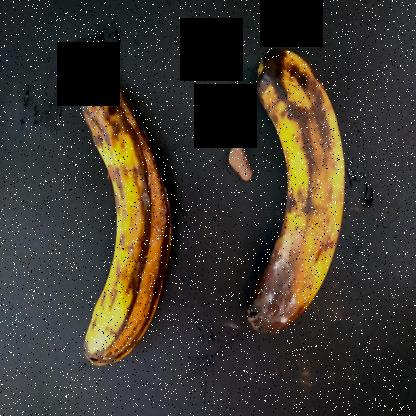rotten: (72, 48, 199, 378), (241, 23, 365, 334)
